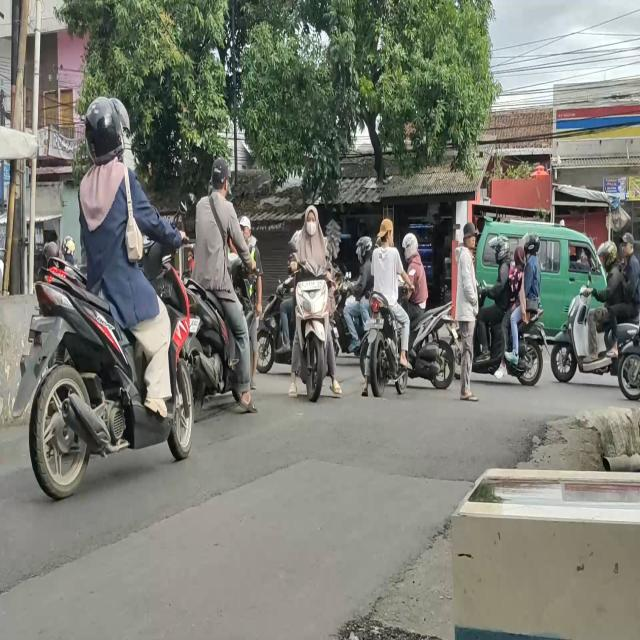helmet: (86, 101, 122, 158), (602, 238, 618, 269), (403, 232, 418, 258), (496, 235, 509, 264), (526, 232, 541, 255), (358, 238, 372, 258)
no-helmet: (213, 159, 230, 192), (304, 205, 318, 234), (380, 223, 393, 248), (623, 233, 634, 258), (512, 248, 524, 269)
